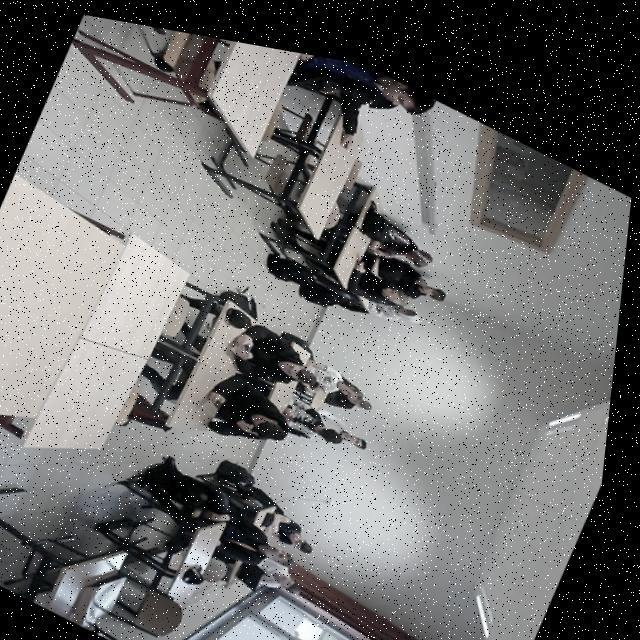phone_use: (230, 324, 339, 391), (207, 372, 303, 438), (283, 382, 364, 447)
